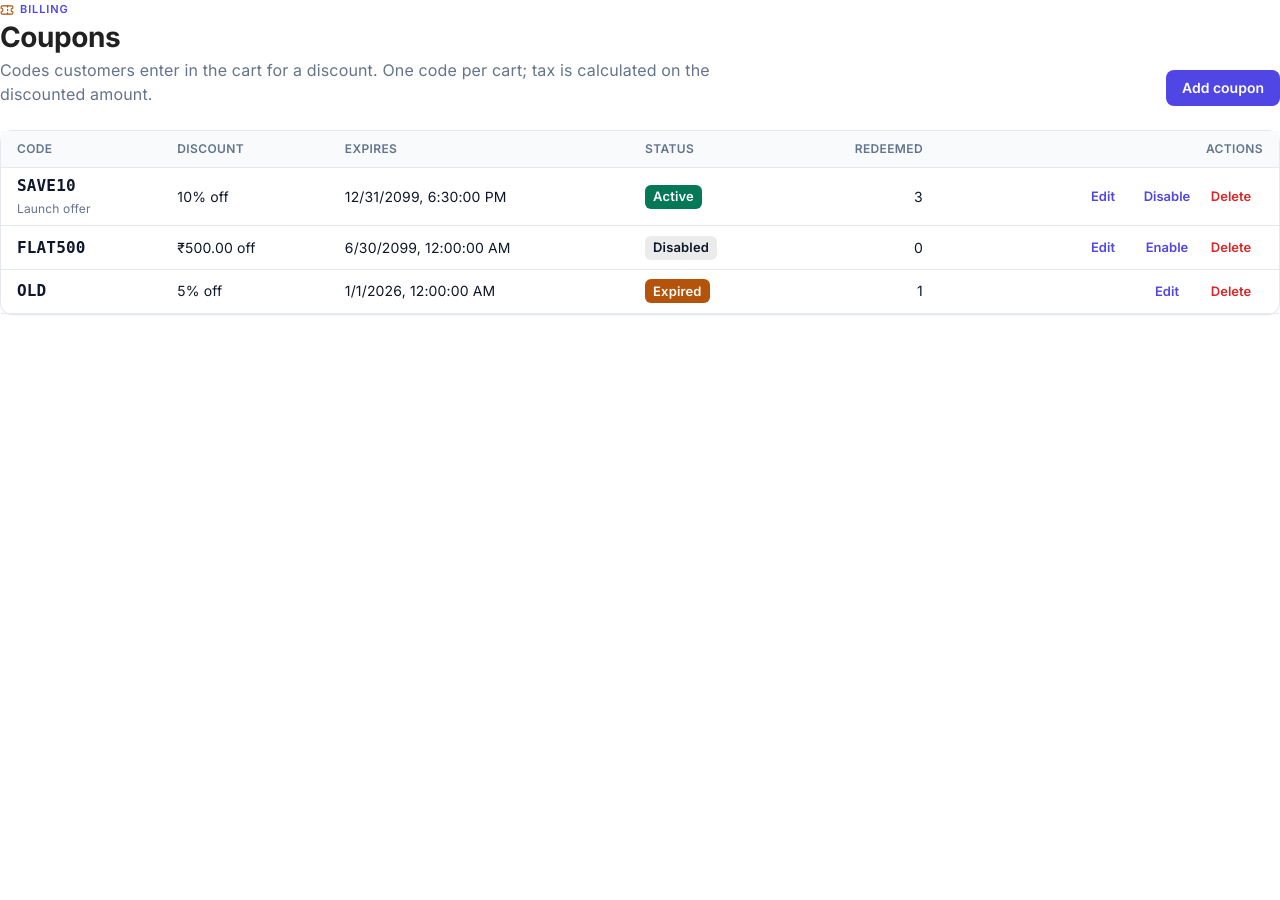
Scenario: AdminCouponsPage (C100) › shows the message when the server refuses to delete a redeemed coupon
Step 1. Click the button with aria-label "Delete SAVE10" → [1231, 197], box x1=1199 y1=182 x2=1263 y2=212
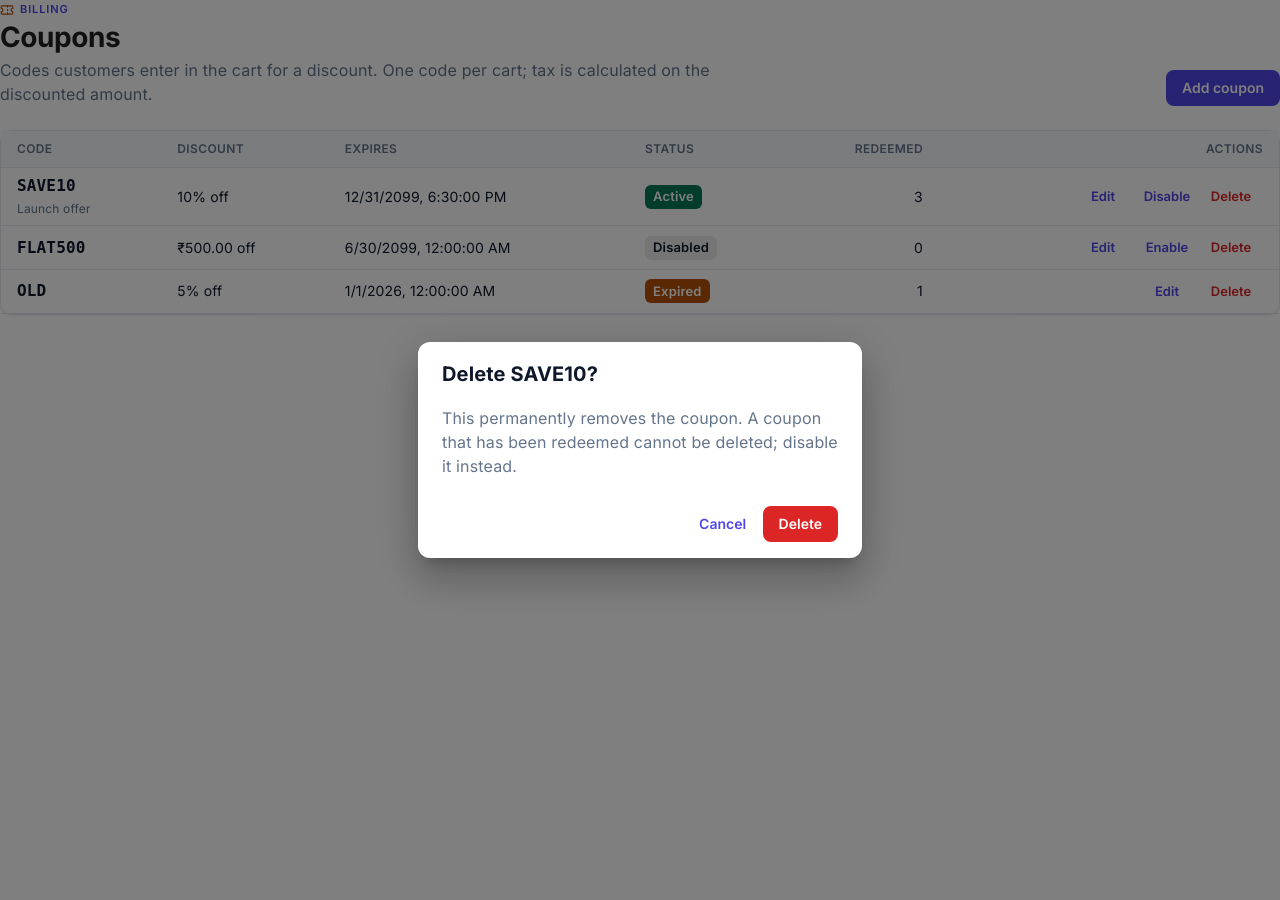
Step 2. Click the button "Delete" → [800, 524], box x1=763 y1=506 x2=838 y2=542
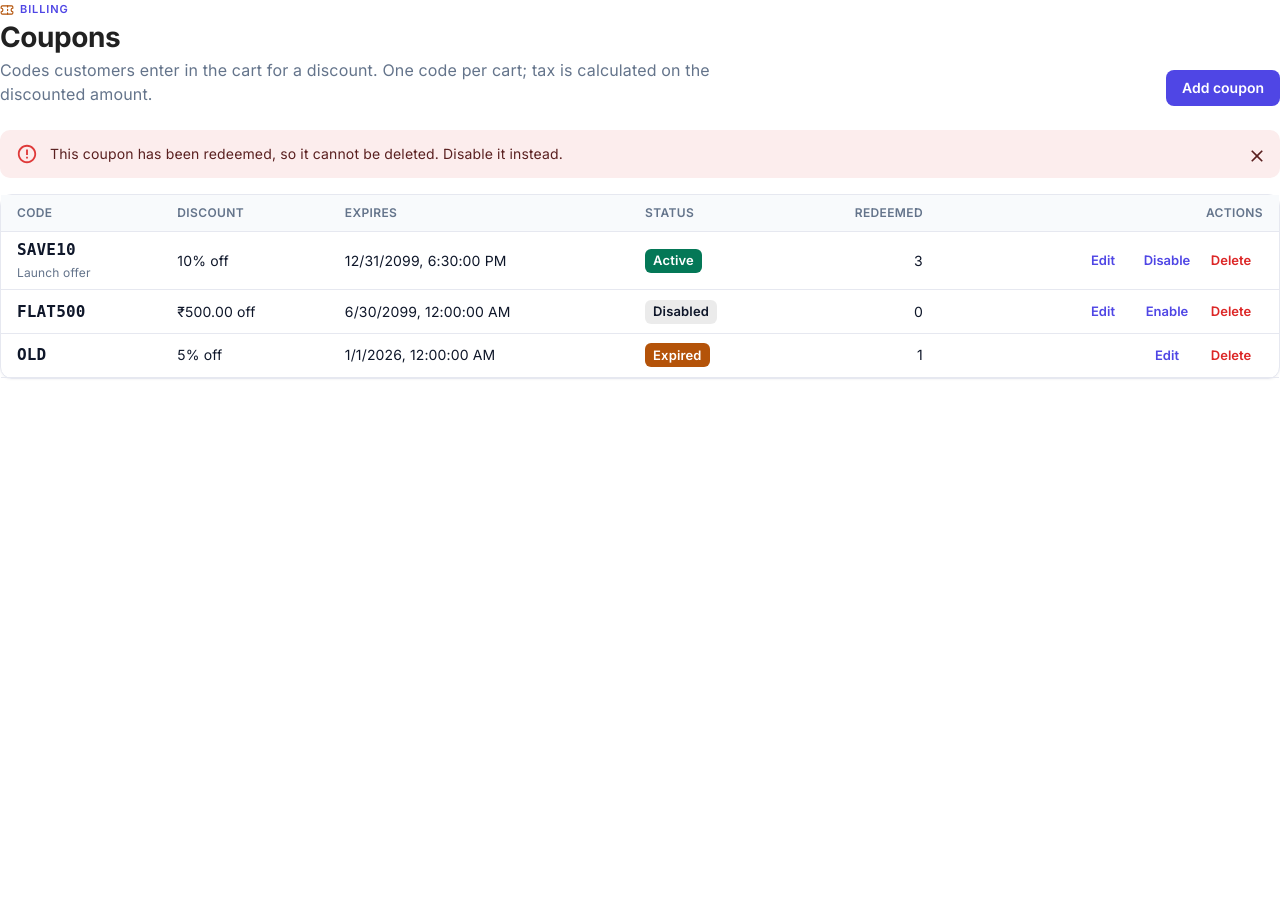
Expected: the text "SAVE10" is shown, x1=17 y1=240 x2=76 y2=259
Result: the text "This coupon has been redeemed, so it cannot be deleted. Disable it instead." is shown at x1=50 y1=145 x2=563 y2=162
